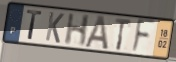A: (83, 14, 110, 51)
F: (130, 17, 157, 56)
H: (63, 12, 92, 48)
K: (44, 11, 65, 45)
T: (114, 17, 133, 52), (25, 9, 43, 42)
